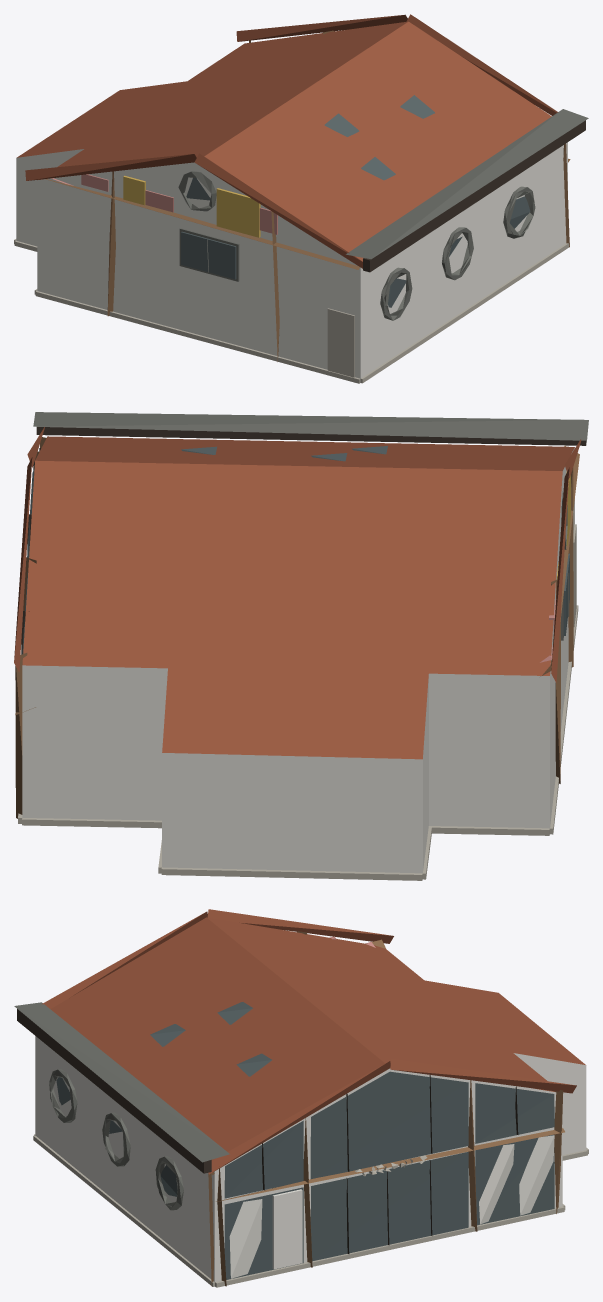
Rendered from tugelahuis-tugelaweg.lod1.glb.
3 views of the same model, one above another, from view 1: azimuth 30°, elevation 25°; view 2: azimuth 150°, elevation 25°; view 3: azimuth 270°, elevation 25° (orthographic). The views are drawn at different scales.
Visible parts, largest first — view 1: tugelahuis-tugelaweg; view 2: tugelahuis-tugelaweg; view 3: tugelahuis-tugelaweg.
Boxes of the visible parts, x1,y1,x2,y2 form: tugelahuis-tugelaweg: (14,14,588,383); tugelahuis-tugelaweg: (14,412,588,880); tugelahuis-tugelaweg: (14,909,588,1287).
Size of the model in its own units: 17.18 by 6.51 by 17.84.
